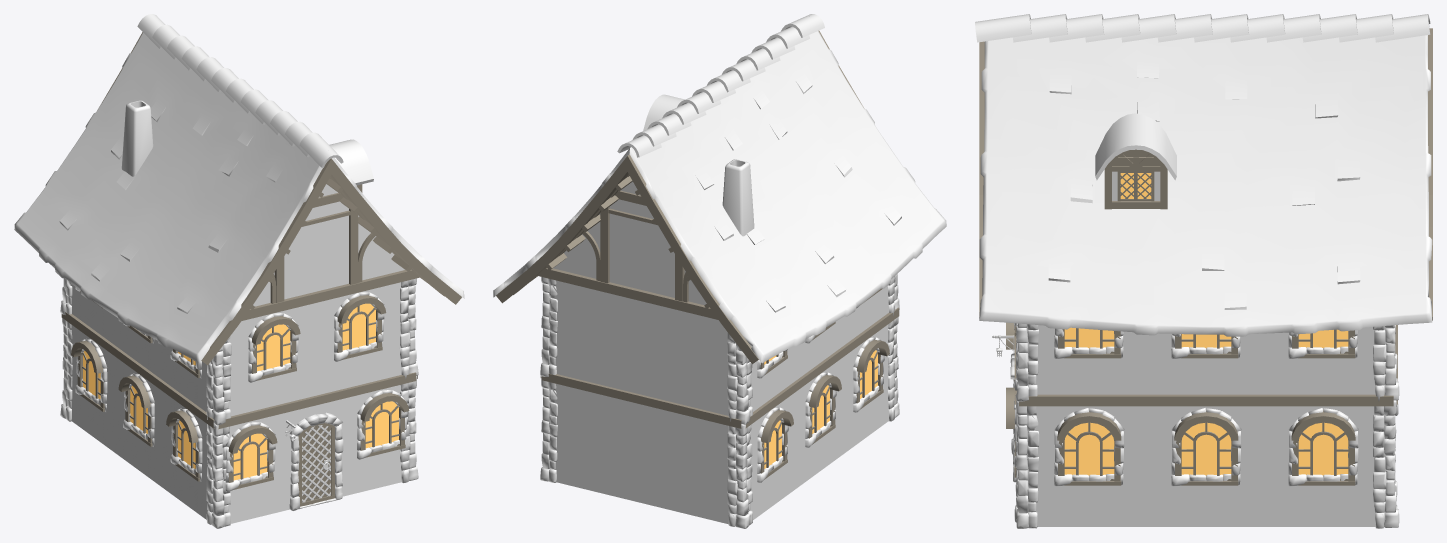
Rendered from icemantle_hearth_lodge.glb.
The picture shows the model from 3 angles, left to right: view 1: azimuth 30°, elevation 25°; view 2: azimuth 150°, elevation 25°; view 3: azimuth 270°, elevation 25°; orthographic projection. The views are drawn at different scales.
Visible parts, largest first — view 1: village/MI_FlatTiles, village/MI_UnevenBrick, village/MI_RockTrim, village/MI_WoodTrim, village/MI_WoodTrim_Wear, village/MI_RoundTiles, village/MI_WindowGlass, village/MI_MetalOrnaments; view 2: village/MI_FlatTiles, village/MI_UnevenBrick, village/MI_WoodTrim, village/MI_RockTrim, village/MI_RoundTiles, village/MI_WoodTrim_Wear, village/MI_WindowGlass; view 3: village/MI_FlatTiles, village/MI_UnevenBrick, village/MI_RockTrim, village/MI_RoundTiles, village/MI_WoodTrim, village/MI_WindowGlass, village/MI_WoodTrim_Wear.
Boxes of the visible parts, x1,y1,x2,y2 form: village/MI_FlatTiles: (14, 32, 464, 363); village/MI_UnevenBrick: (68, 100, 414, 523); village/MI_RockTrim: (60, 278, 418, 528); village/MI_WoodTrim: (61, 32, 461, 429); village/MI_WoodTrim_Wear: (71, 291, 409, 506); village/MI_RoundTiles: (137, 14, 343, 167); village/MI_WindowGlass: (83, 303, 398, 480); village/MI_MetalOrnaments: (302, 425, 330, 502); village/MI_FlatTiles: (493, 31, 946, 363); village/MI_UnevenBrick: (549, 159, 888, 524); village/MI_WoodTrim: (496, 30, 899, 428); village/MI_RockTrim: (540, 274, 899, 528); village/MI_RoundTiles: (617, 14, 824, 157); village/MI_WoodTrim_Wear: (760, 288, 889, 479); village/MI_WindowGlass: (764, 350, 877, 468); village/MI_FlatTiles: (979, 21, 1432, 336); village/MI_UnevenBrick: (1019, 171, 1393, 526); village/MI_RockTrim: (1010, 323, 1399, 528); village/MI_RoundTiles: (975, 14, 1430, 42); village/MI_WoodTrim: (979, 28, 1432, 406); village/MI_WindowGlass: (1064, 173, 1348, 476); village/MI_WoodTrim_Wear: (1006, 322, 1355, 485).
Bounding box in the file's own units: 8.72 × 10.66 × 9.78.
